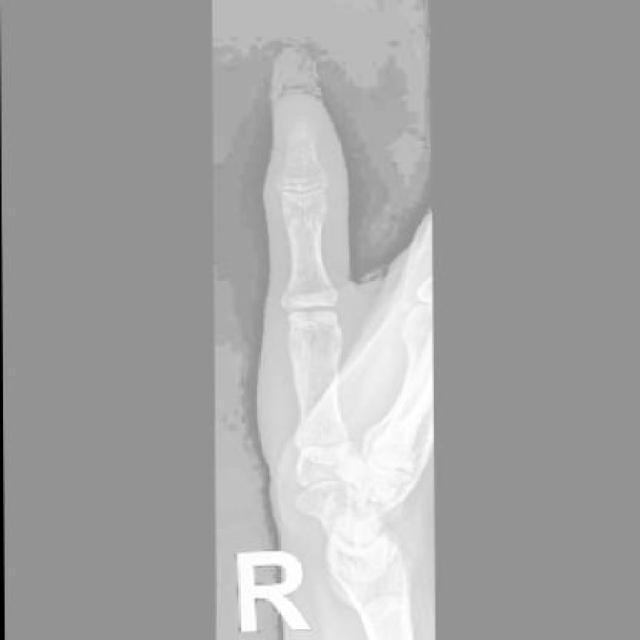Fracture: (268, 167, 291, 196)
